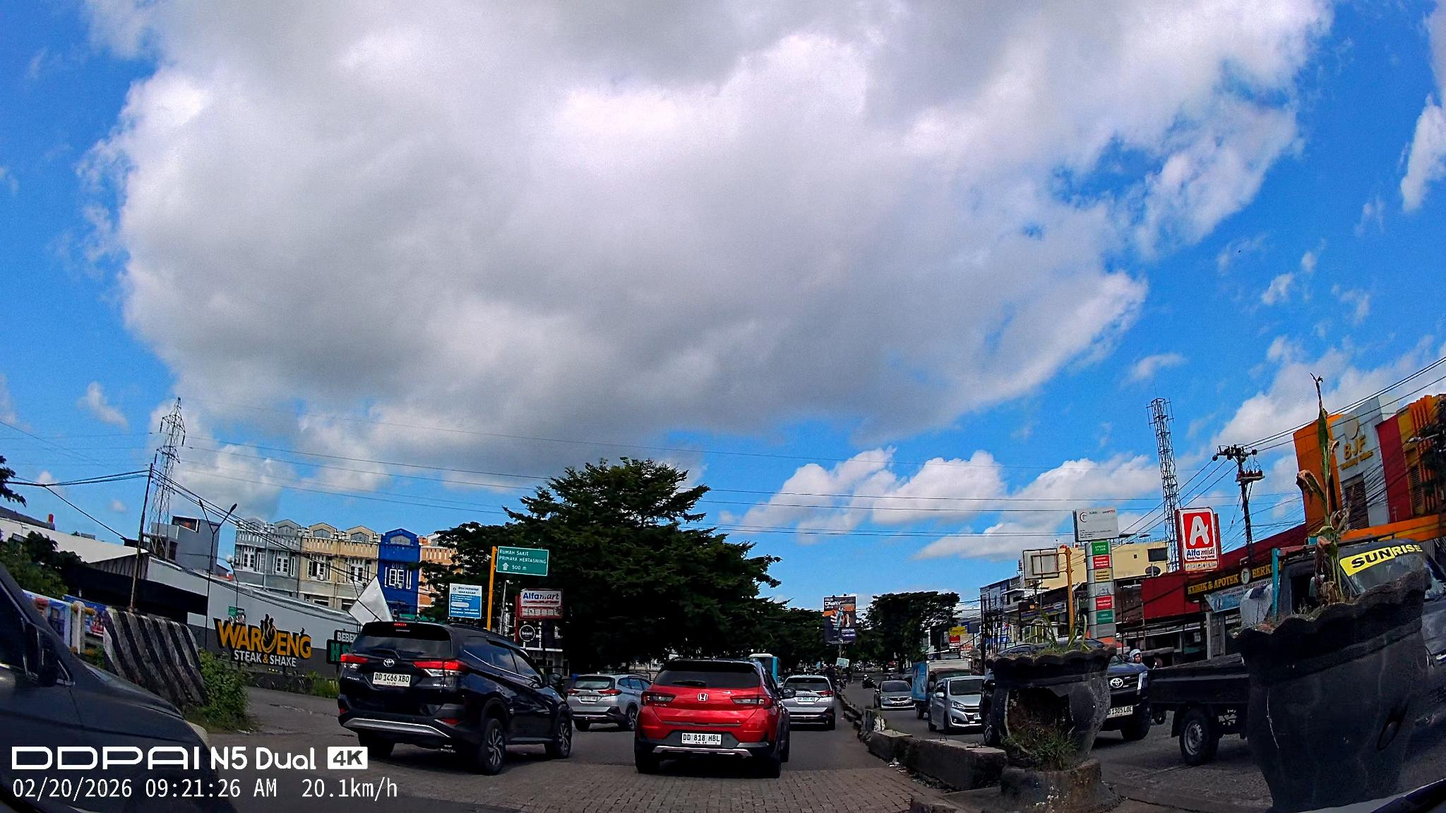rambu_teks: (496, 546, 549, 576)
